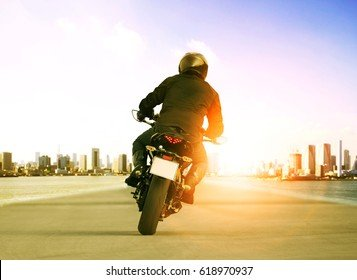motor: (137, 128, 198, 237)
